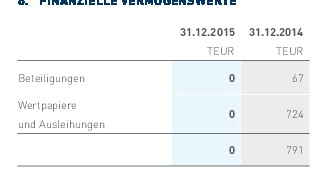table: (0, 0, 319, 180)
